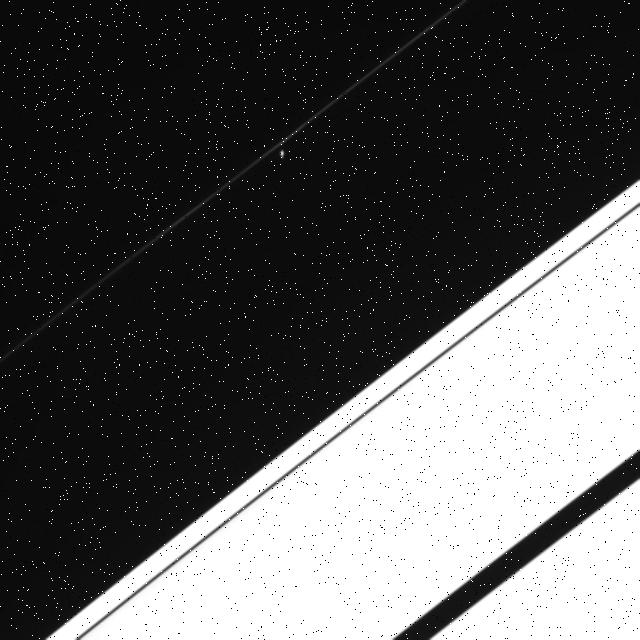Saturn: (34, 104, 639, 640)
